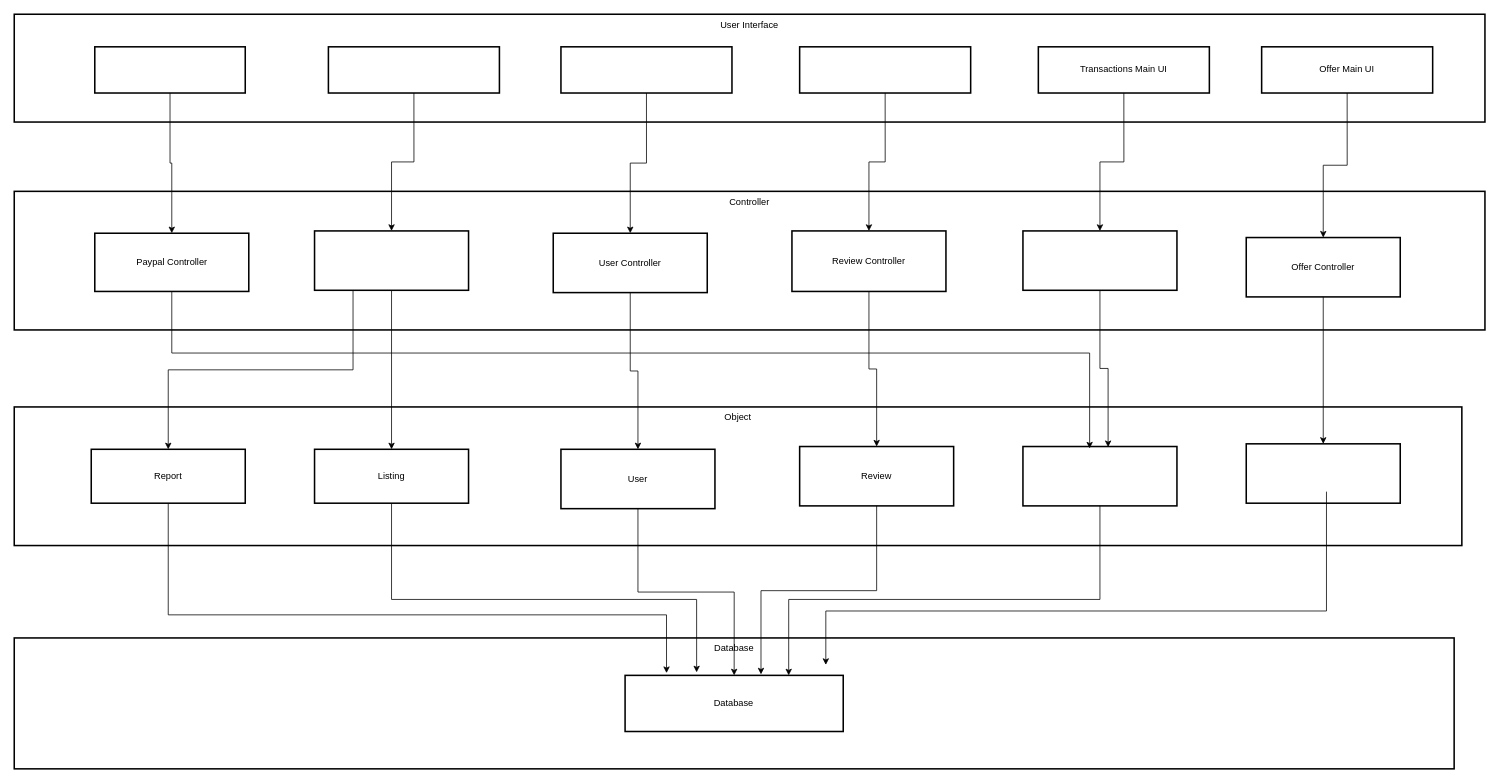
Some shapes in this 1498 by 782 pixel diagram are drawn without their labels. The shapes that lost their labels are listed below. From the top down, each one's box as (x1, y1, x2, y2) in pixels, then its label:
(94, 46, 246, 93): Paypal UI
(327, 46, 500, 93): Listing Main UI
(560, 46, 732, 93): User Main UI
(798, 46, 971, 93): Review Miain UI
(313, 230, 469, 291): Listing Controller
(1022, 230, 1177, 291): Transaction Controller
(1022, 445, 1177, 506): Transaction
(1245, 443, 1401, 504): Offer
